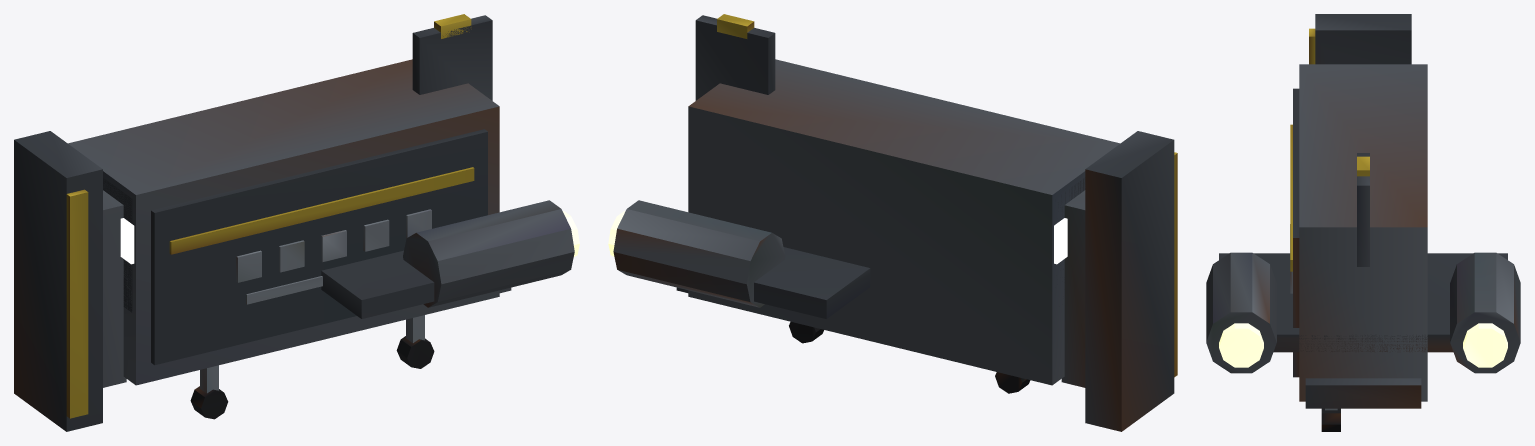
File: kestrel.glb
3 views of the same model, side by side, from view 1: azimuth 30°, elevation 25°; view 2: azimuth 150°, elevation 25°; view 3: azimuth 270°, elevation 25° (orthographic). The views are drawn at different scales.
Visible parts, largest first — view 1: kestrel; view 2: kestrel; view 3: kestrel.
Part boxes in pixels (box(x1,y1,x2,y2)): kestrel: box(14, 14, 579, 431); kestrel: box(608, 14, 1177, 431); kestrel: box(1206, 14, 1520, 431).
Bounding box in the file's own units: 152 × 101 × 98.
